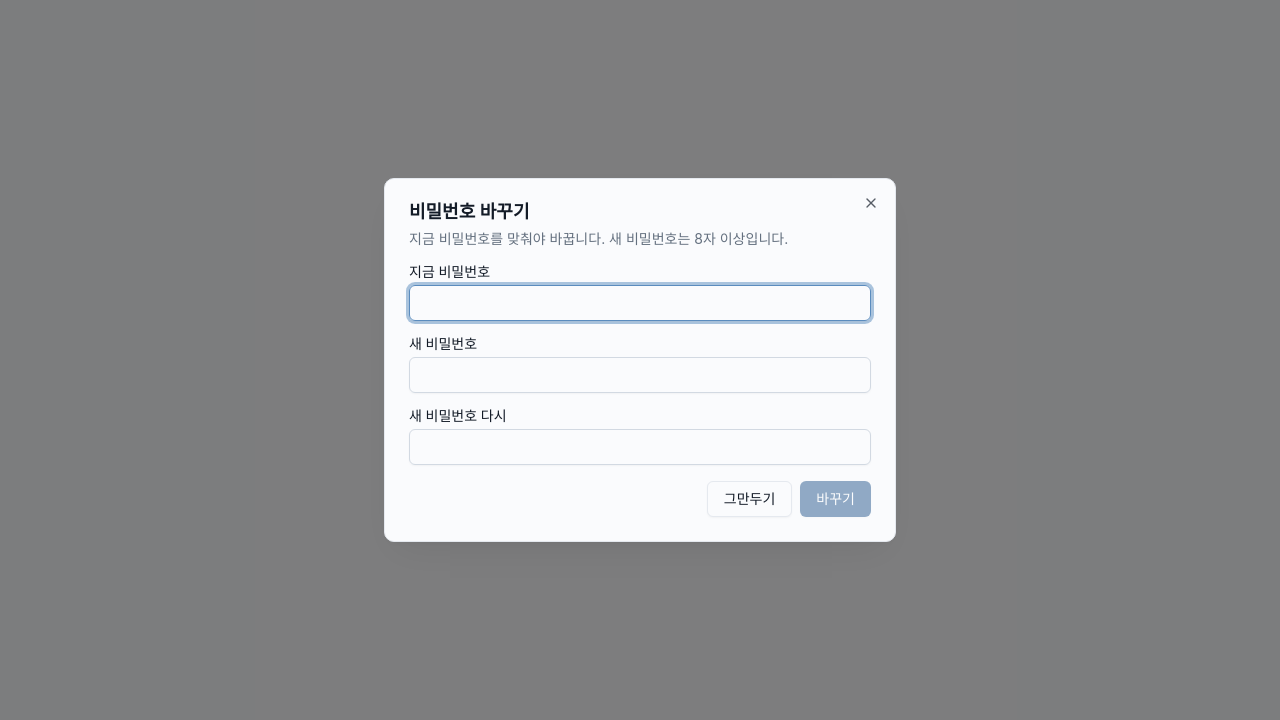
비밀번호 바꾸기 › 새 비밀번호 두 칸이 다르면 보내지 않는다
The width and height of the screenshot is (1280, 720).
Type "temp-1234567" into the password field labelled "지금 비밀번호" at (640, 303), box [409,285,871,321]
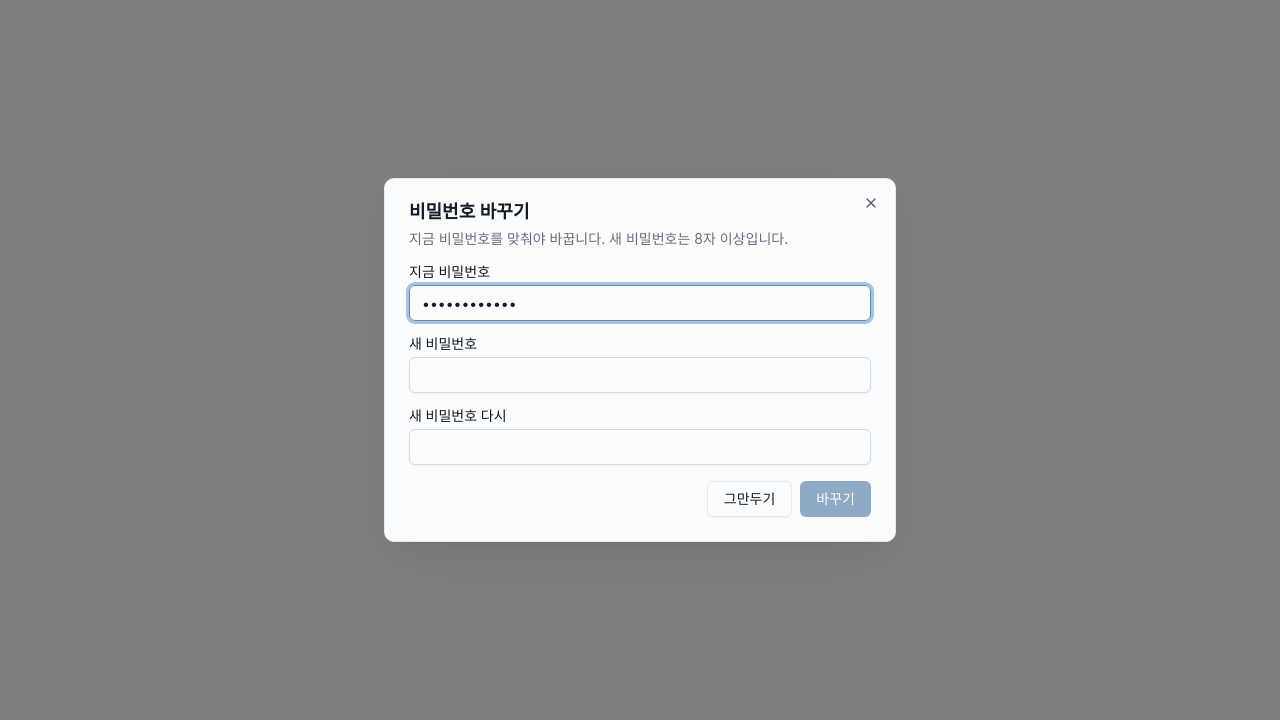
Type "new-password-1" into the password field labelled "새 비밀번호" at (640, 375), box [409,357,871,393]
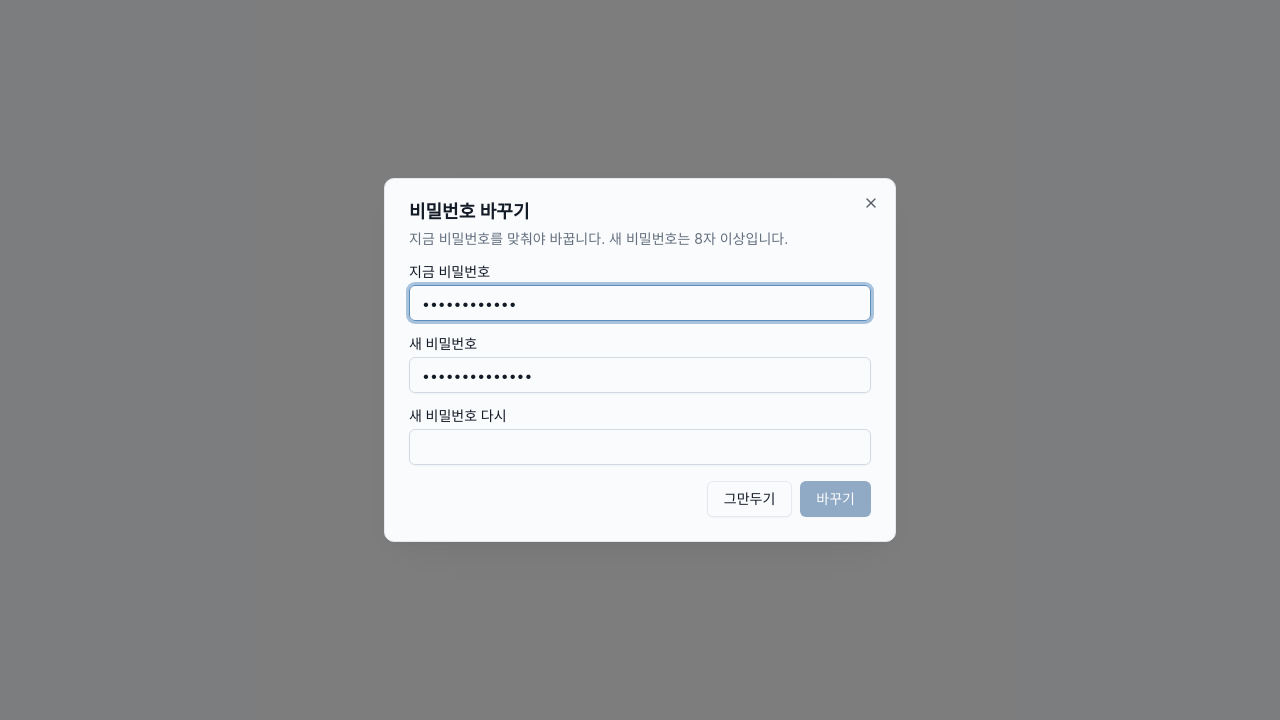
Type "new-password-2" into the password field labelled "새 비밀번호 다시" at (640, 447), box [409,429,871,465]
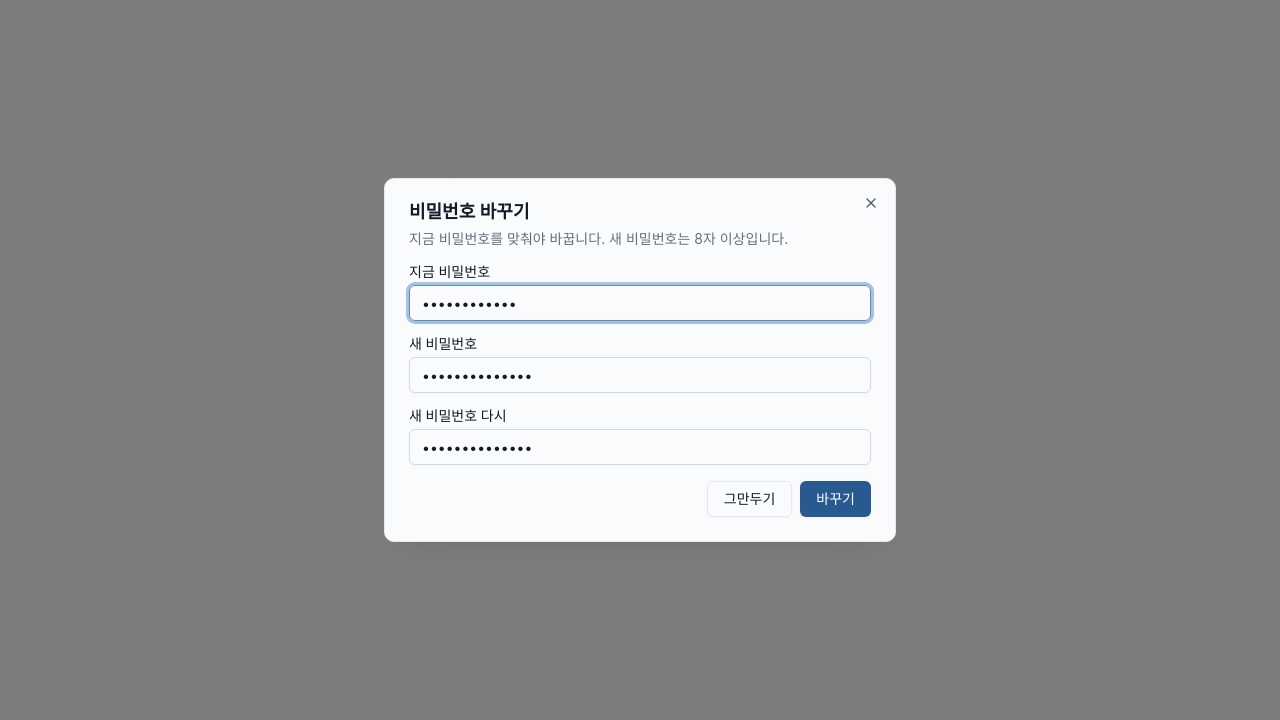
Click the button "바꾸기" at (836, 499), box [800,481,871,517]
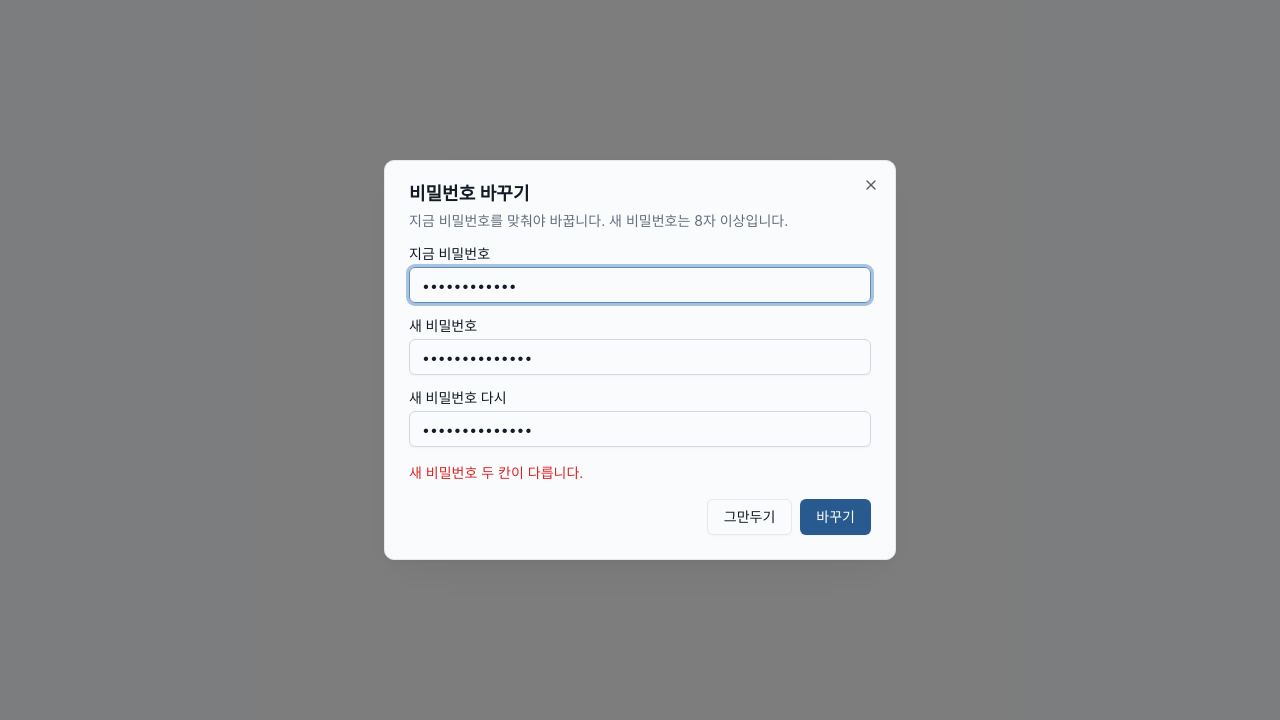
Check: the message shows "두 칸이 다릅니다", box [409,464,583,481]
